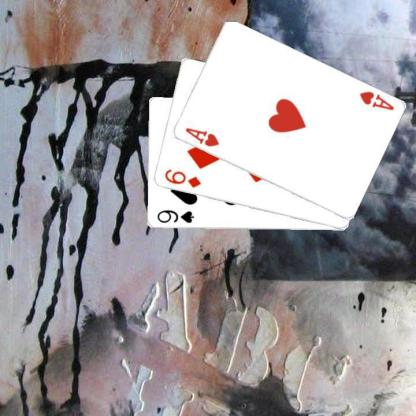6D: (162, 167, 202, 189)
9S: (154, 207, 194, 225)
AH: (357, 88, 395, 112), (182, 126, 220, 148)
